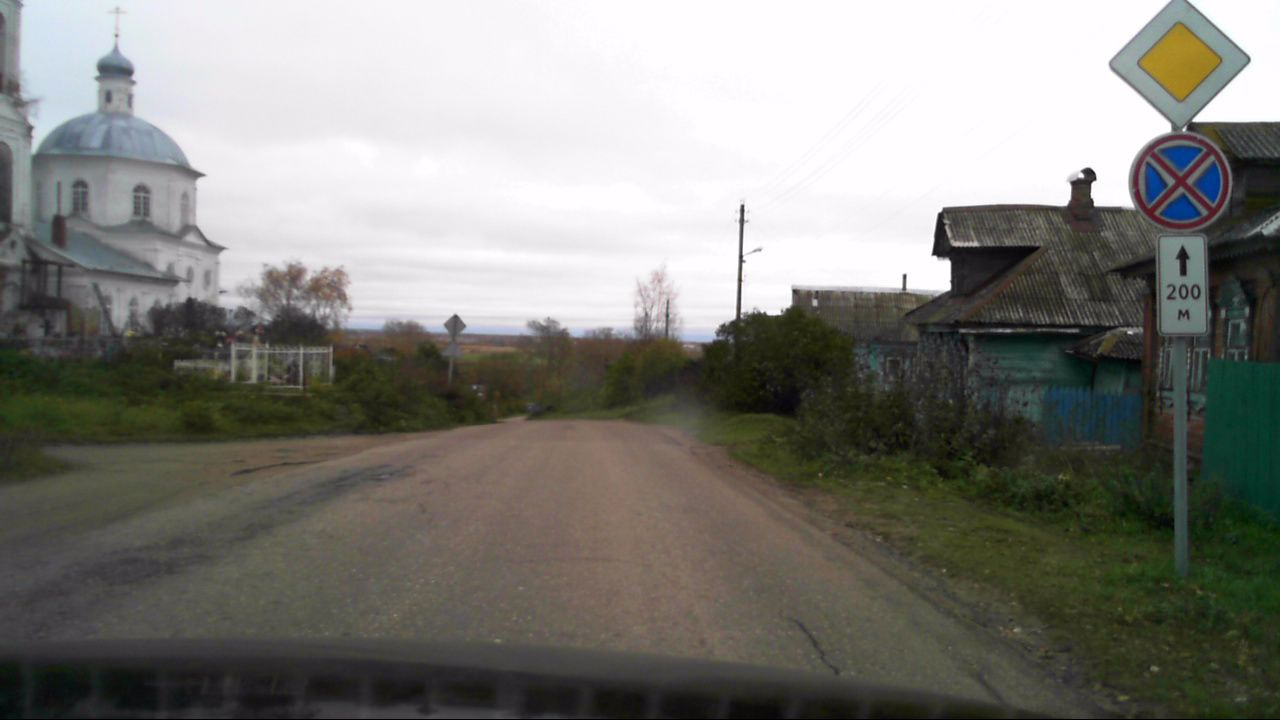No Parking: (1129, 130, 1232, 235)
